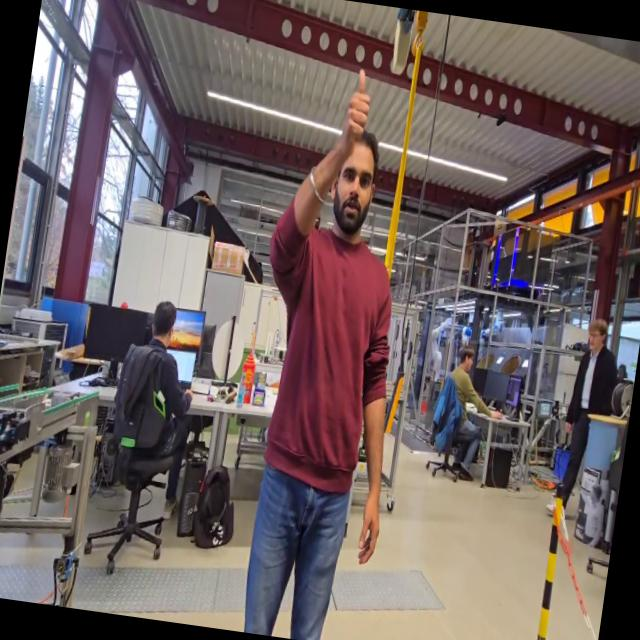thumbs_up: (336, 65, 381, 156)
